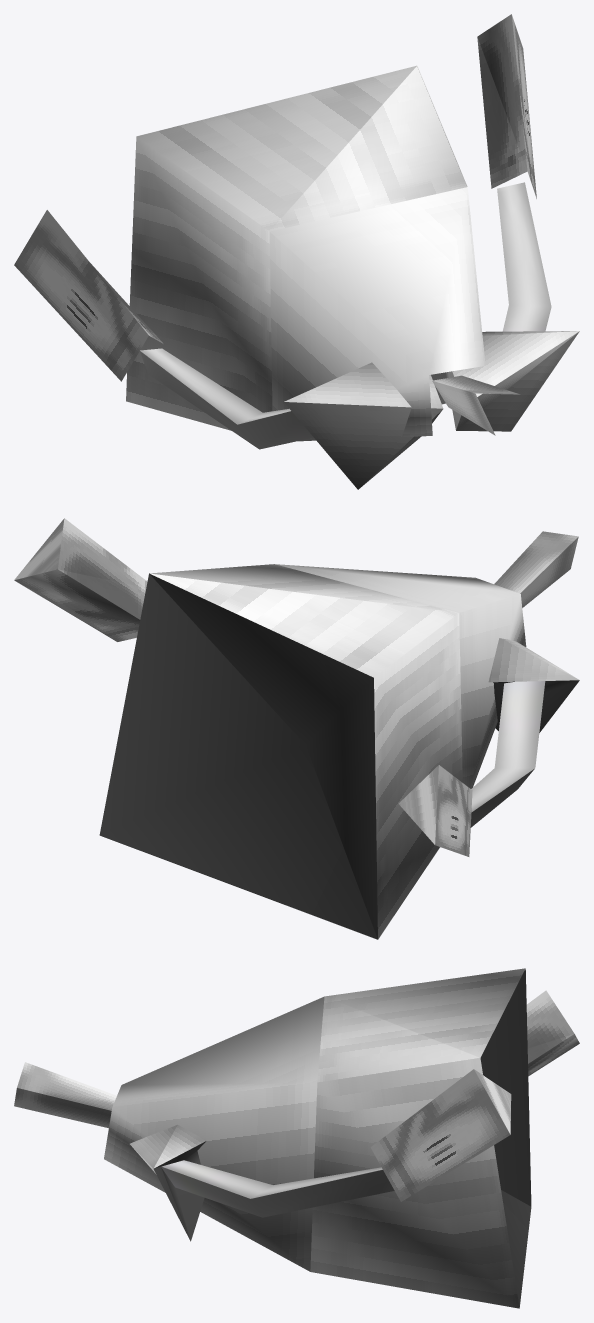
File: torso_md_250.glb
3 renders of one model, top to bottom at view 1: azimuth 30°, elevation 25°; view 2: azimuth 150°, elevation 25°; view 3: azimuth 270°, elevation 25°, orthographic. The views are drawn at different scales.
Parts seen in each view (by area): view 1: torso-bot, torso-top, hands (×2), sleeves, arms, neck; view 2: torso-bot, hands (×2), torso-top, arms, sleeves, neck; view 3: torso-bot, torso-top, hands (×2), arms, neck, sleeves.
Boxes of the visible parts, x1,y1,x2,y2 form: torso-bot: [126, 65, 467, 430]; torso-top: [269, 187, 485, 441]; hands (×2): [14, 14, 536, 381]; sleeves: [284, 331, 579, 489]; arms: [140, 182, 551, 449]; neck: [432, 375, 520, 435]; torso-bot: [99, 564, 462, 939]; hands (×2): [14, 518, 472, 856]; torso-top: [274, 564, 526, 788]; arms: [470, 681, 545, 827]; sleeves: [488, 638, 579, 732]; neck: [494, 531, 578, 607]; torso-bot: [310, 968, 531, 1308]; torso-top: [104, 996, 324, 1271]; hands (×2): [370, 990, 579, 1201]; arms: [161, 1160, 394, 1217]; neck: [14, 1062, 116, 1128]; sleeves: [130, 1124, 206, 1241].
Bounding box in the file's own units: 2.61 × 1.72 × 2.98.
Materials: 6 (6 with a texture image).
